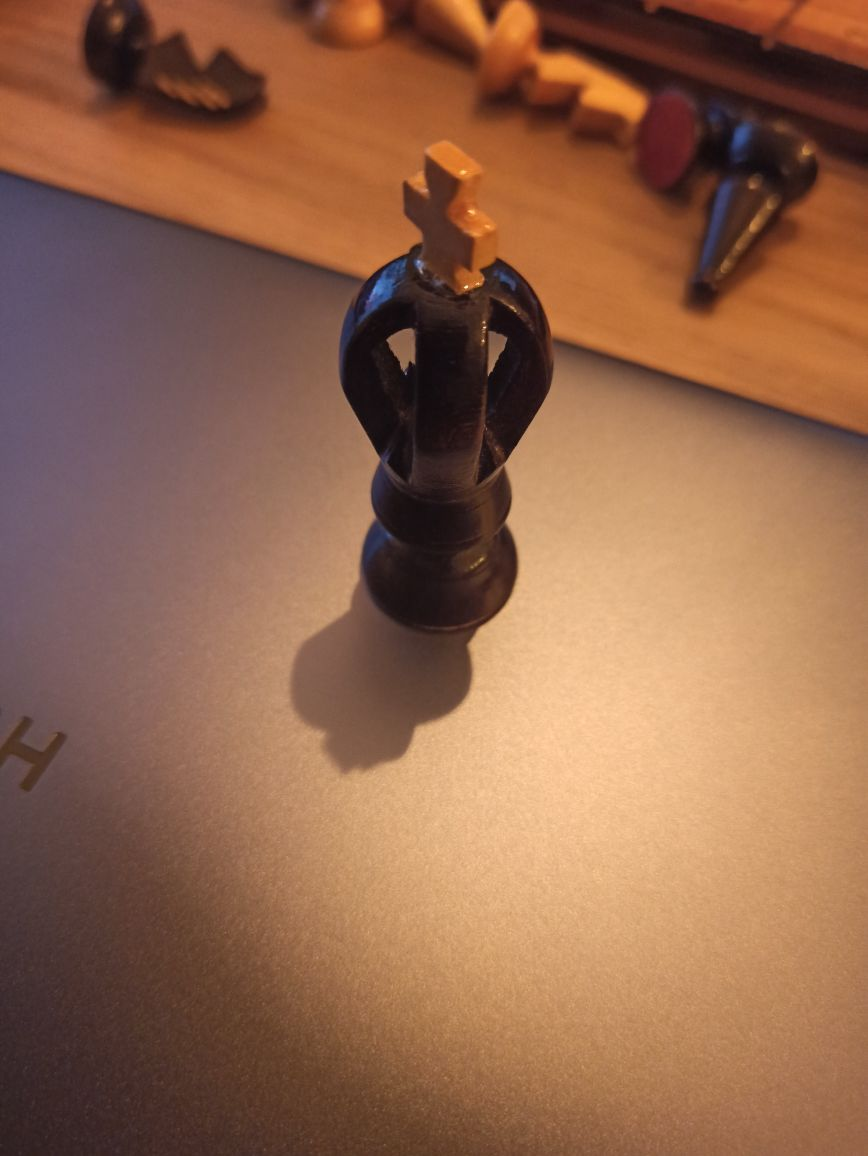bking: (336, 141, 556, 636)
